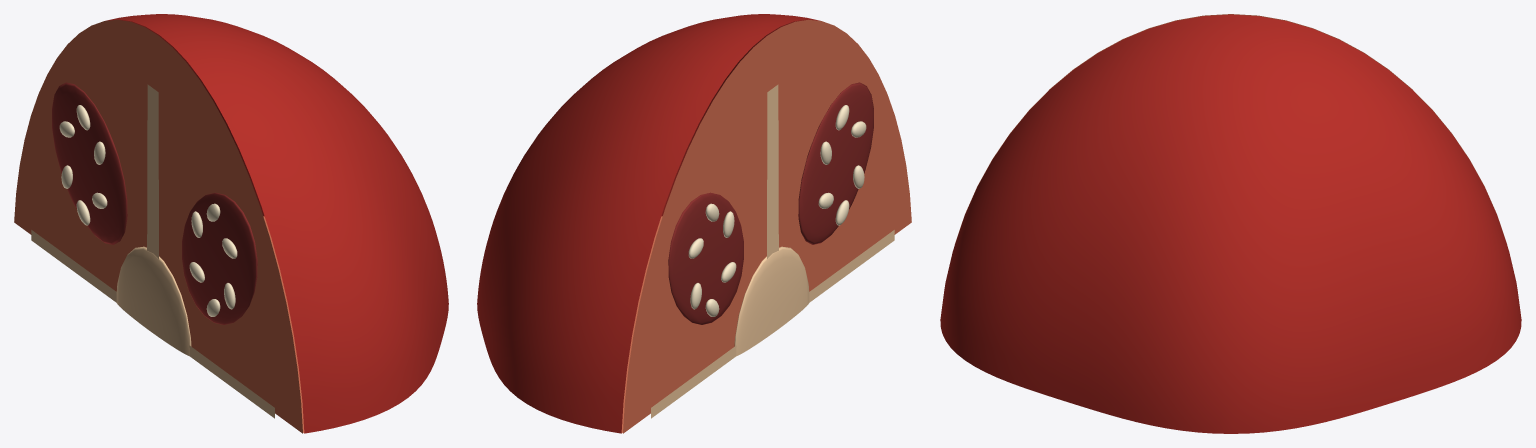
Rendered from big_boy_wedge.glb.
3 renders of one model, left to right at view 1: azimuth 30°, elevation 25°; view 2: azimuth 150°, elevation 25°; view 3: azimuth 270°, elevation 25°, orthographic.
Visible parts, largest first — view 1: Prepared Big Boy half, Stout four-chamber Big Boy flesh, Four stout Big Boy seed chambers, Reinforced Big Boy central core, Thick four-way Big Boy septum, Big Boy plump individually modeled seed; view 2: Prepared Big Boy half, Stout four-chamber Big Boy flesh, Four stout Big Boy seed chambers, Reinforced Big Boy central core, Thick four-way Big Boy septum, Big Boy plump individually modeled seed; view 3: Prepared Big Boy half, Stout four-chamber Big Boy flesh.
Boxes of the visible parts, box(x1,y1,x2,y2) form: Prepared Big Boy half: box(105, 14, 448, 433); Stout four-chamber Big Boy flesh: box(14, 19, 302, 433); Four stout Big Boy seed chambers: box(52, 82, 257, 324); Reinforced Big Boy central core: box(116, 246, 191, 356); Thick four-way Big Boy septum: box(31, 84, 274, 418); Big Boy plump individually modeled seed: box(59, 105, 237, 316); Prepared Big Boy half: box(477, 14, 820, 433); Stout four-chamber Big Boy flesh: box(623, 19, 911, 433); Four stout Big Boy seed chambers: box(668, 82, 873, 324); Reinforced Big Boy central core: box(734, 246, 809, 356); Thick four-way Big Boy septum: box(651, 84, 894, 418); Big Boy plump individually modeled seed: box(688, 105, 866, 316); Prepared Big Boy half: box(940, 14, 1521, 433); Stout four-chamber Big Boy flesh: box(954, 14, 1507, 244).
Bounding box in the file's own units: 0.8647 × 0.86 × 1.56.
